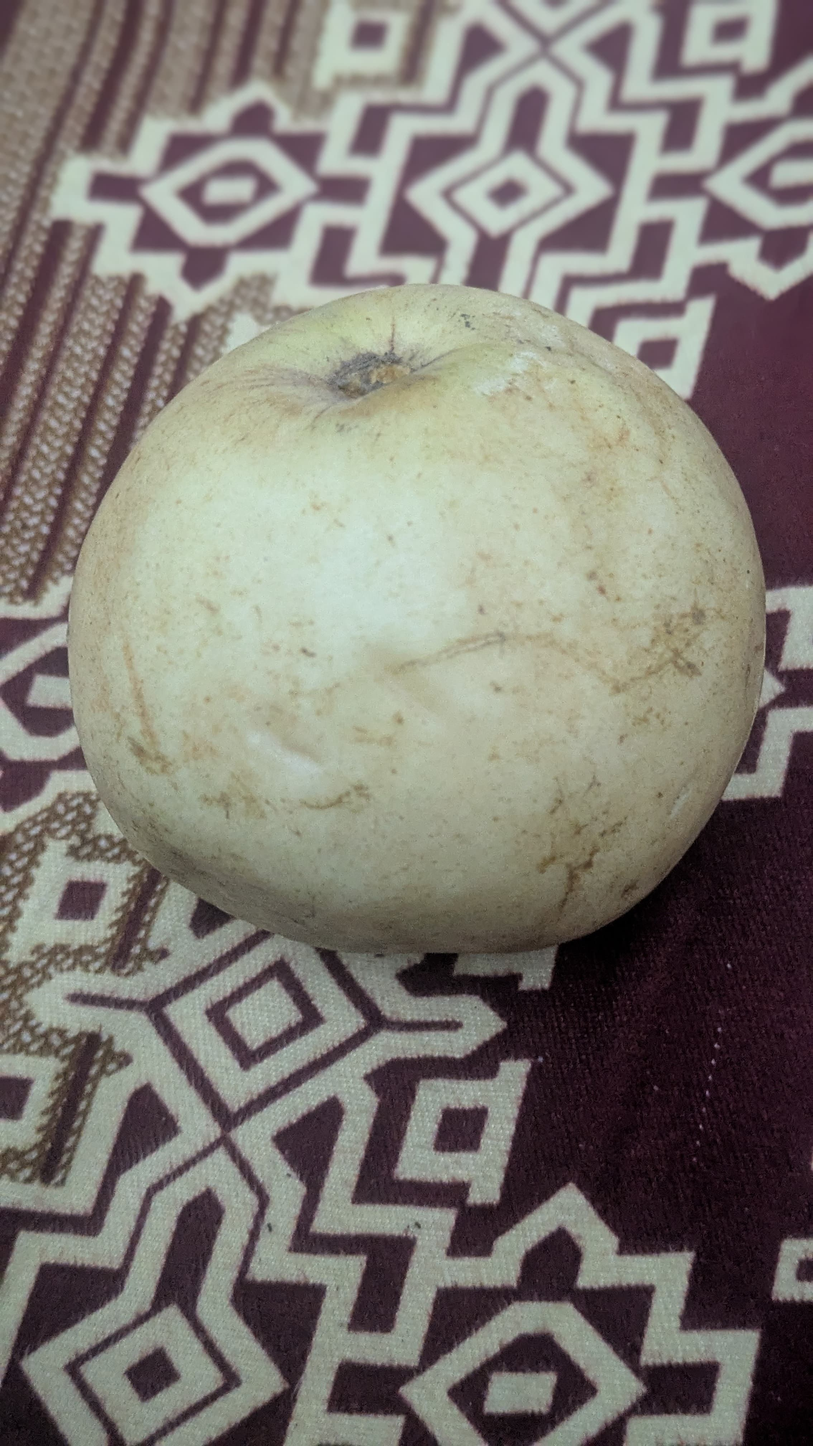guava: (79, 180, 729, 1369)
